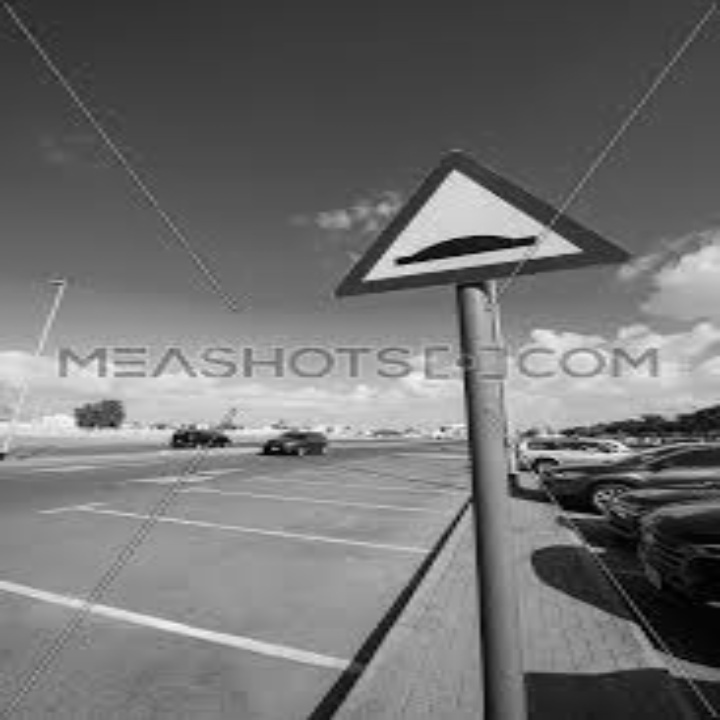bump: (377, 223, 552, 268)
